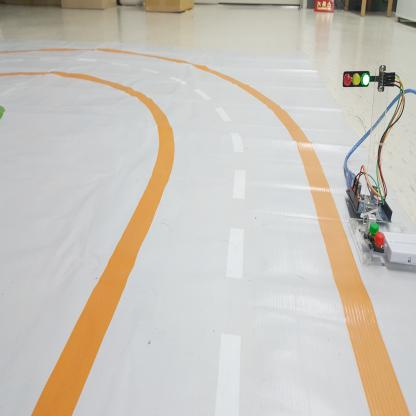traffic-light: (341, 69, 371, 89)
